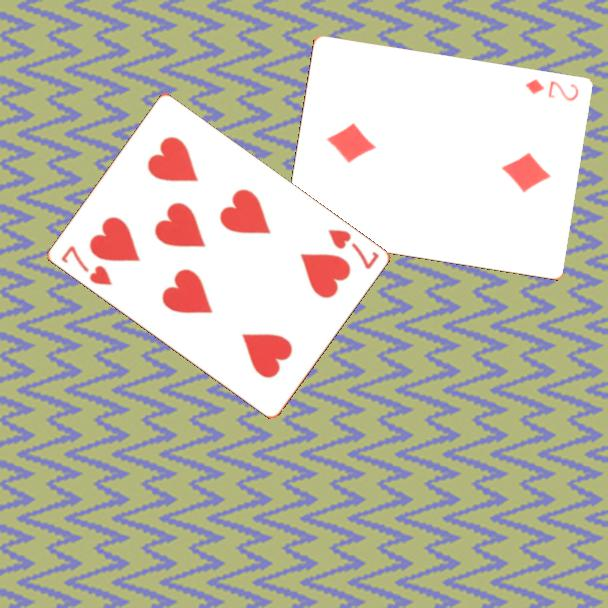d02: (521, 75, 581, 104)
h07: (57, 242, 115, 288), (324, 226, 382, 272)
